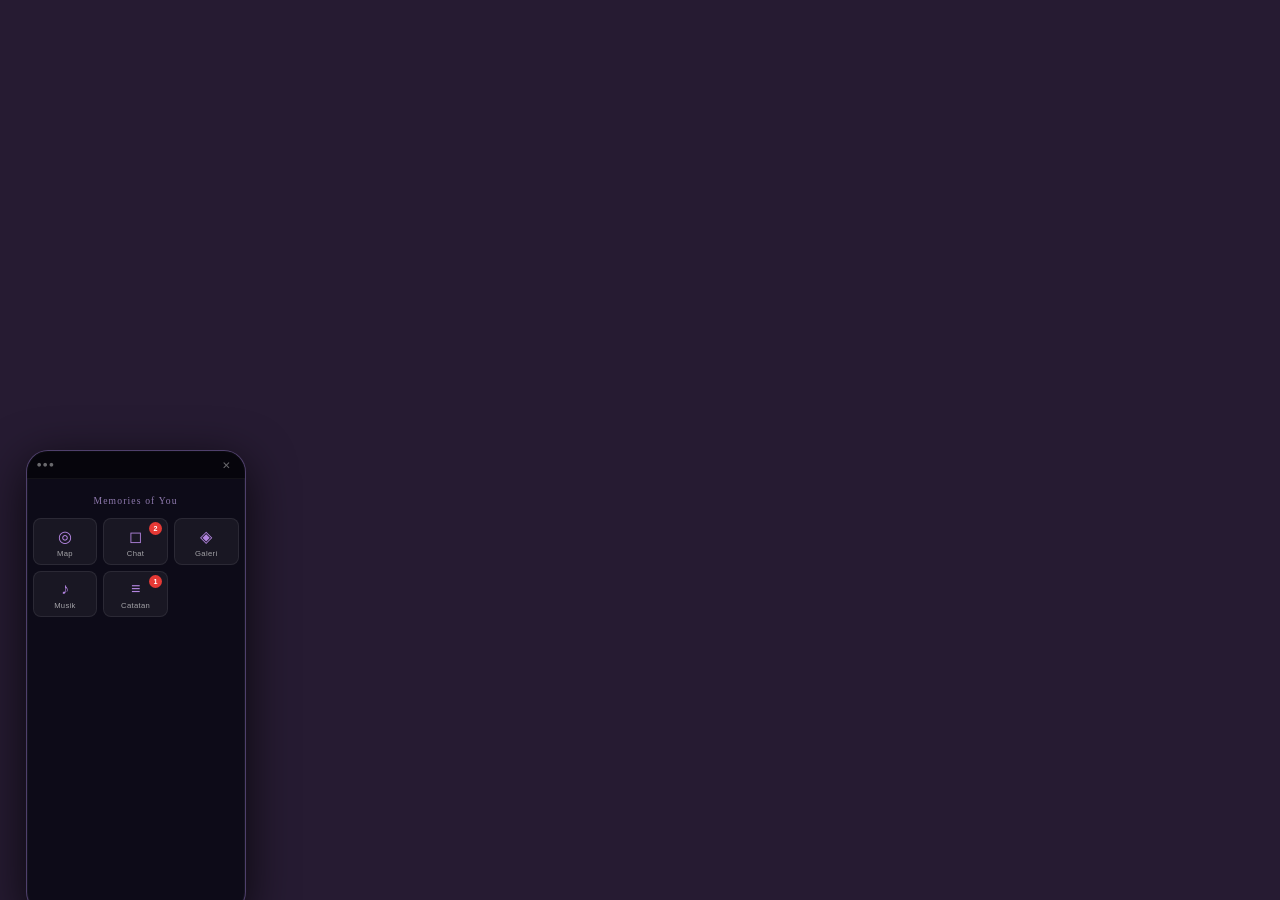
SmartphoneFrame › navigates to MapApp when Map icon is clicked
The width and height of the screenshot is (1280, 900).
Click the button labelled "◎ Map". click: [65, 542]
box: [33,518,97,565]
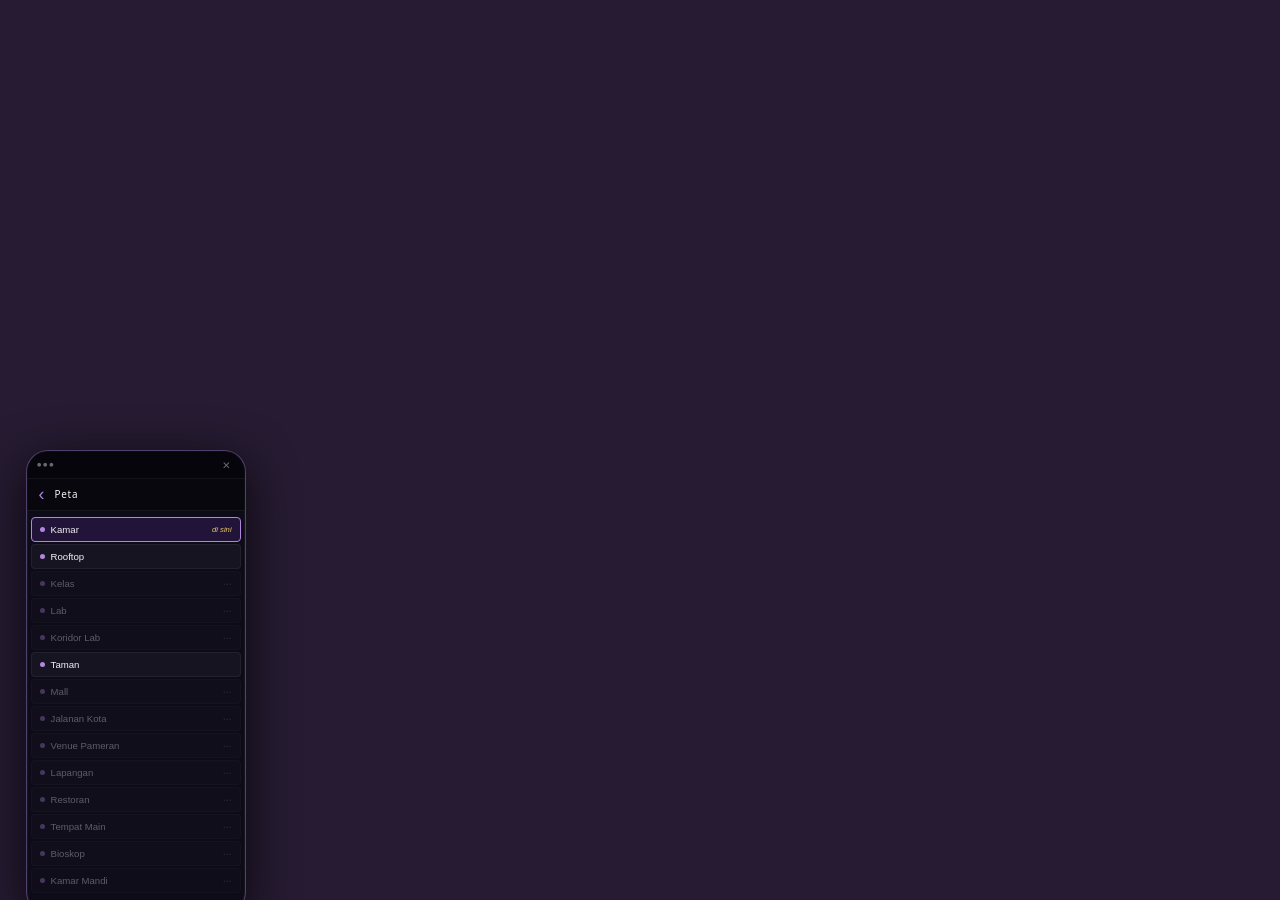
Expected: the text "Peta" is shown, [54,487,78,502]
